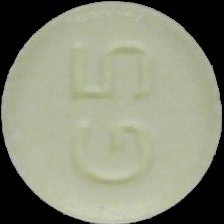10544-440: (0, 0, 224, 224)
